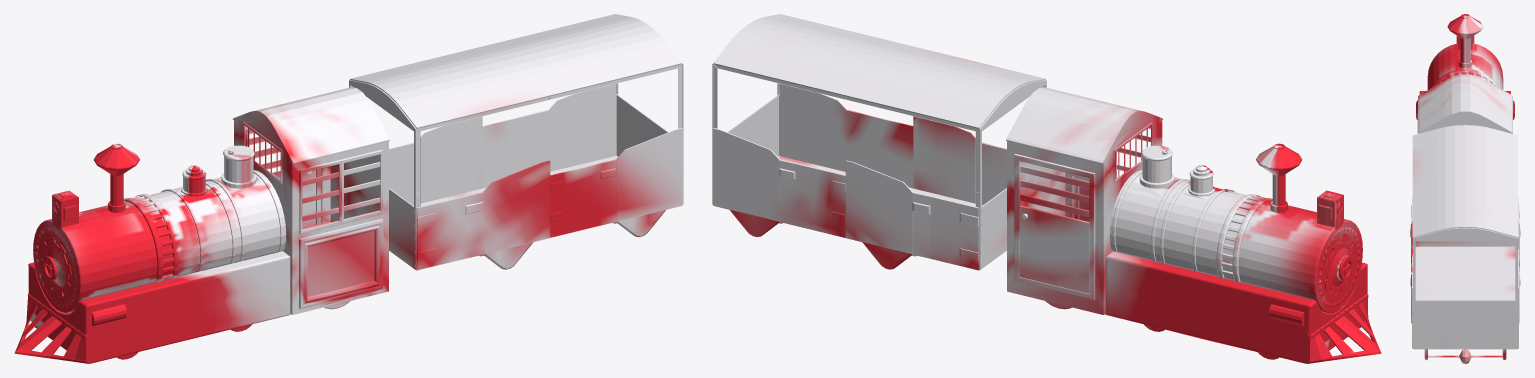
Rendered from train.fbx.
3 views of the same model, side by side, from view 1: azimuth 30°, elevation 25°; view 2: azimuth 150°, elevation 25°; view 3: azimuth 270°, elevation 25° (orthographic). The views are drawn at different scales.
Visible parts, largest first — view 1: Carriage; view 2: Carriage; view 3: Carriage.
Part boxes in pixels (left/top/right/bottom): Carriage: left=14, top=14, right=683, bottom=363; Carriage: left=712, top=14, right=1381, bottom=363; Carriage: left=1410, top=14, right=1520, bottom=363.
Size of the model in its own units: 63.22 by 18.87 by 12.1.
